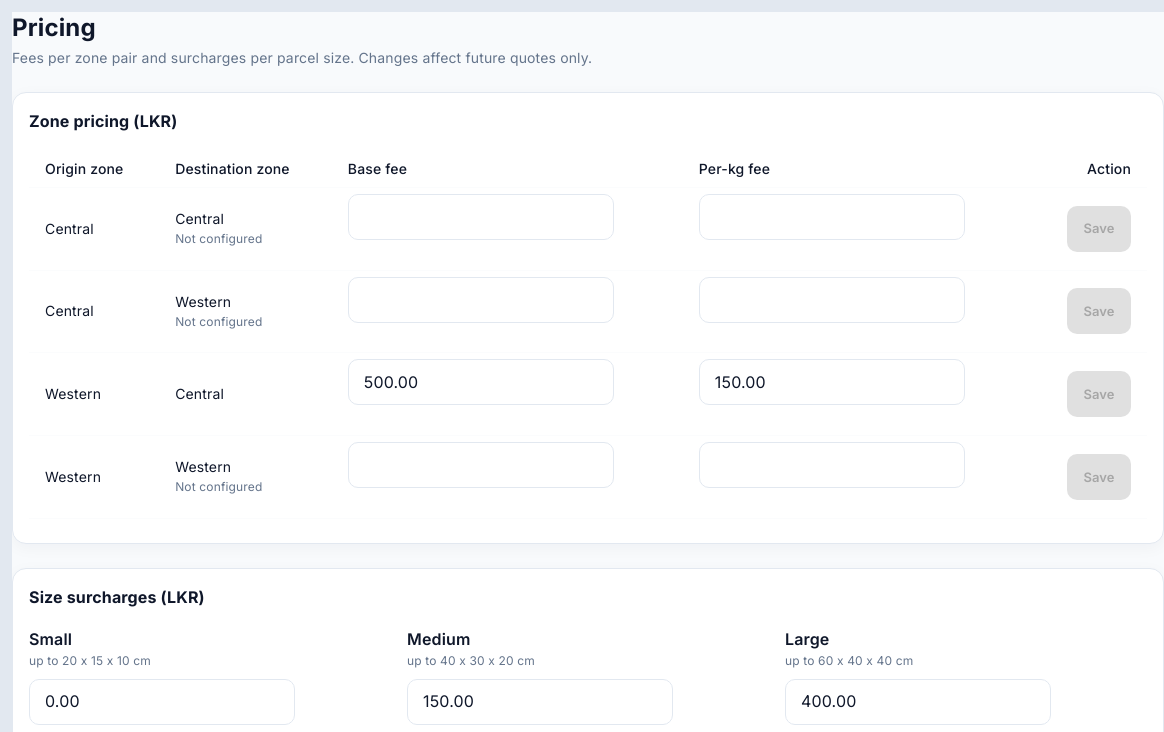
Test: TST-040 Member #5 admin pricing page (FR-PRC-007) › keeps Save disabled until a value changes, and blocks invalid fees
This screenshot has width=1164, height=732.
Expected: the button with aria-label "Save Western to Central" is disabled, [1067,371,1131,417]
Replace the text in the field named "Base fee Western to Central" with "-5" at (481, 382), box [348,359,614,405]
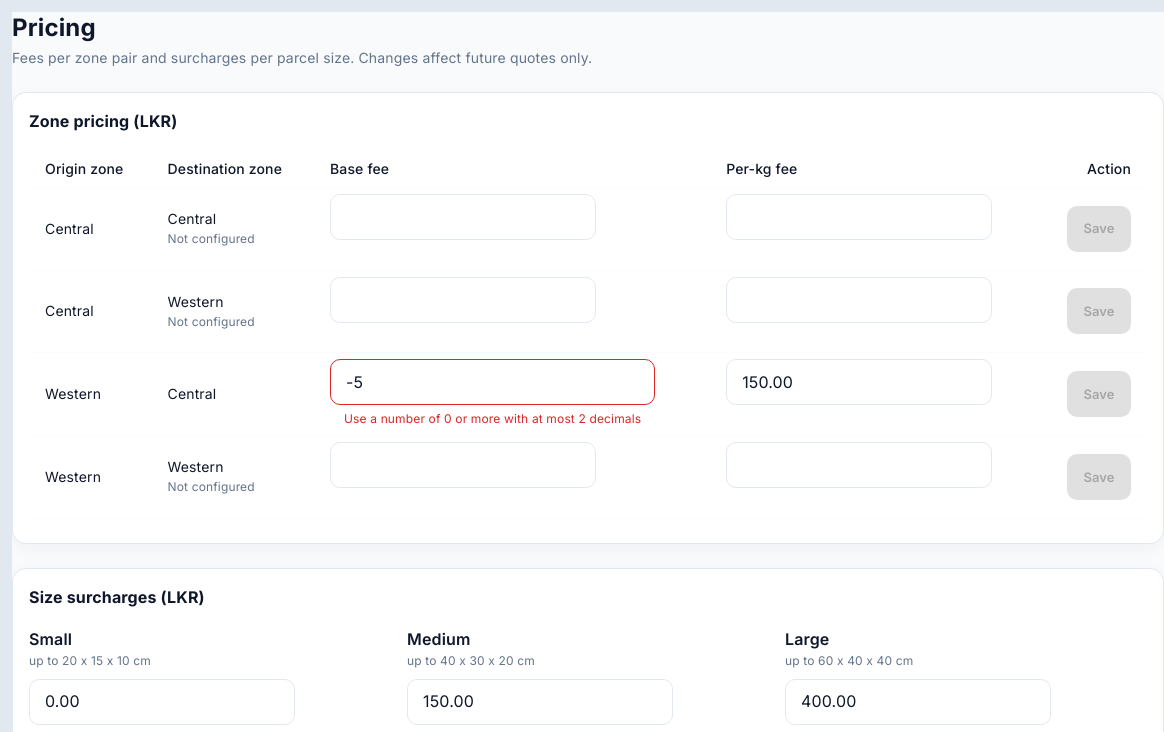
Expected: the button with aria-label "Save Western to Central" is disabled, [1067,371,1131,417]
Expected: the text "Use a number of 0 or more with at most 2 decimals" is shown, [344,409,641,429]
Replace the text in the field named "Base fee Western to Central" with "12.345" at (493, 382), box [330,359,655,405]
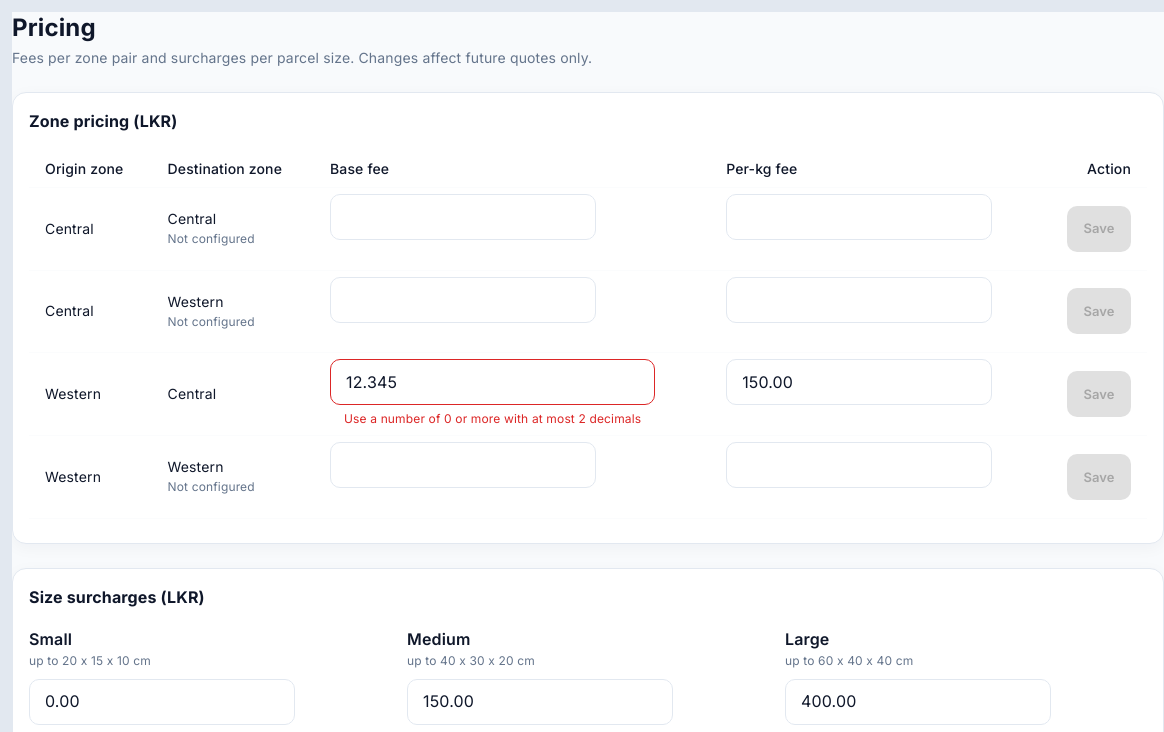
Expected: the button with aria-label "Save Western to Central" is disabled, [1067,371,1131,417]
Replace the text in the field named "Base fee Western to Central" with "1000000.01" at (493, 382), box [330,359,655,405]
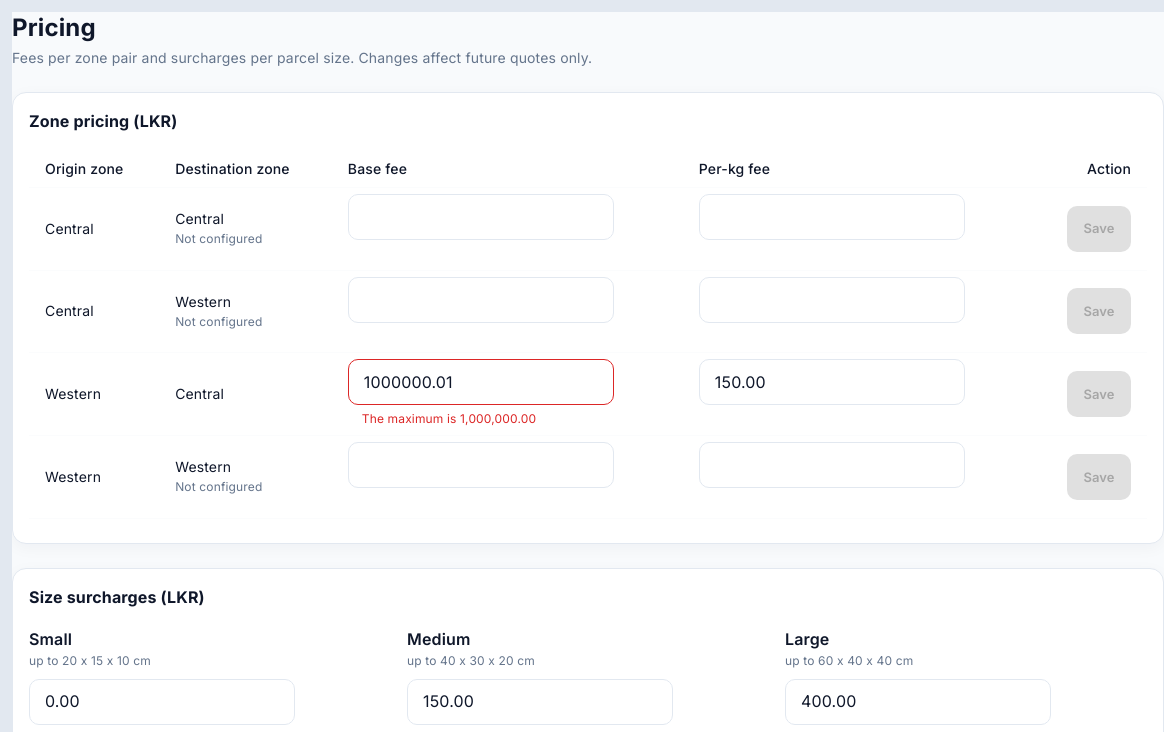
Expected: the button with aria-label "Save Western to Central" is disabled, [1067,371,1131,417]
Expected: the text "The maximum is 1,000,000.00" is shown, [362,411,536,426]
Replace the text in the field named "Base fee Western to Central" with "600" at (481, 382), box [348,359,614,405]
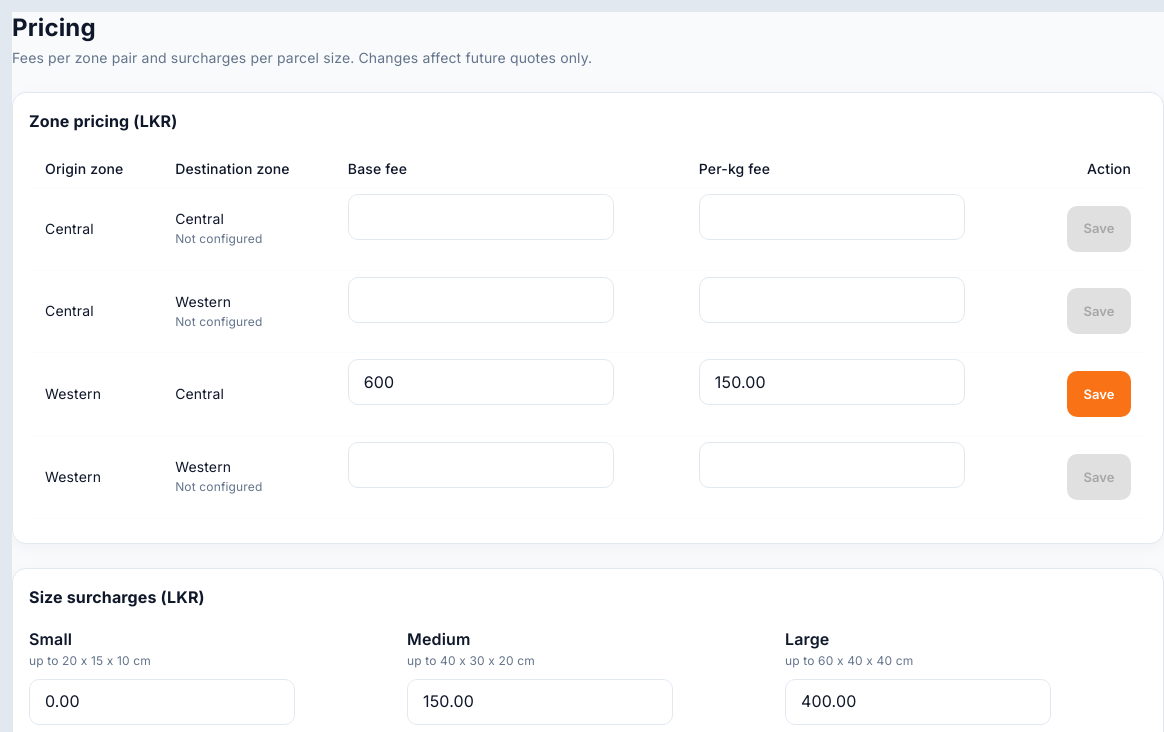
Expected: the button with aria-label "Save Western to Central" is enabled, [1067,371,1131,417]
